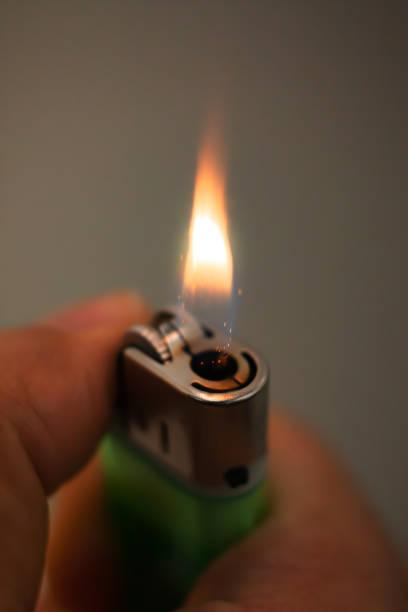Fire: (183, 98, 239, 376)
